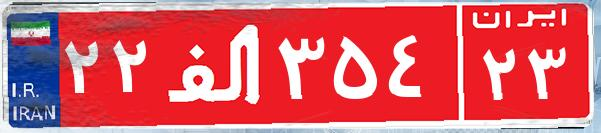2: (57, 26, 110, 107), (475, 38, 525, 113), (110, 28, 158, 105)
3: (273, 28, 330, 110), (525, 38, 570, 115)
4: (385, 28, 445, 110)
5: (330, 28, 385, 110)
الف: (158, 15, 273, 115)
